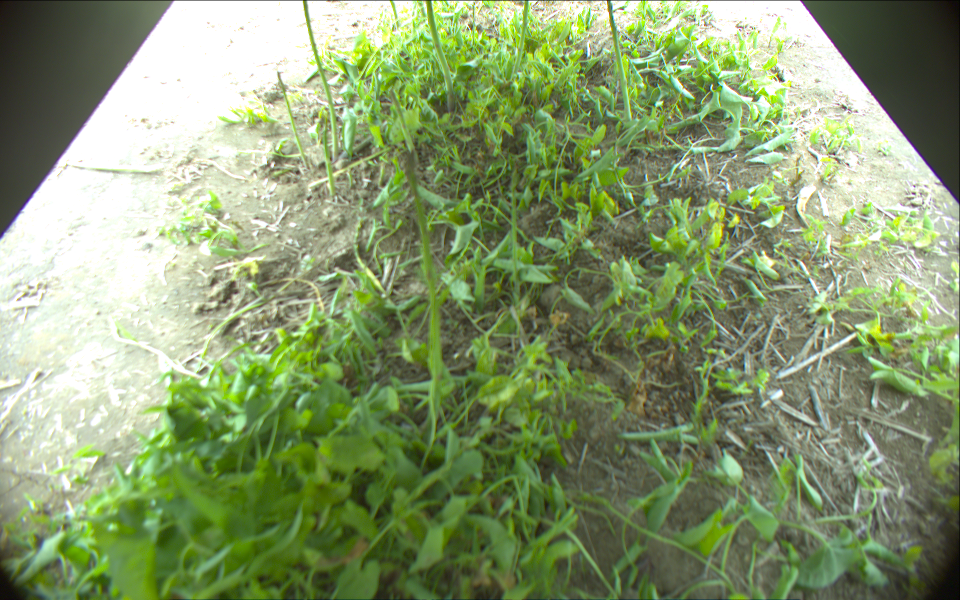aspa: (400, 152, 442, 391), (300, 1, 341, 156), (424, 1, 456, 111), (274, 69, 310, 164), (606, 1, 633, 124), (389, 84, 418, 161), (510, 1, 532, 82), (320, 113, 338, 195), (389, 1, 400, 28)
